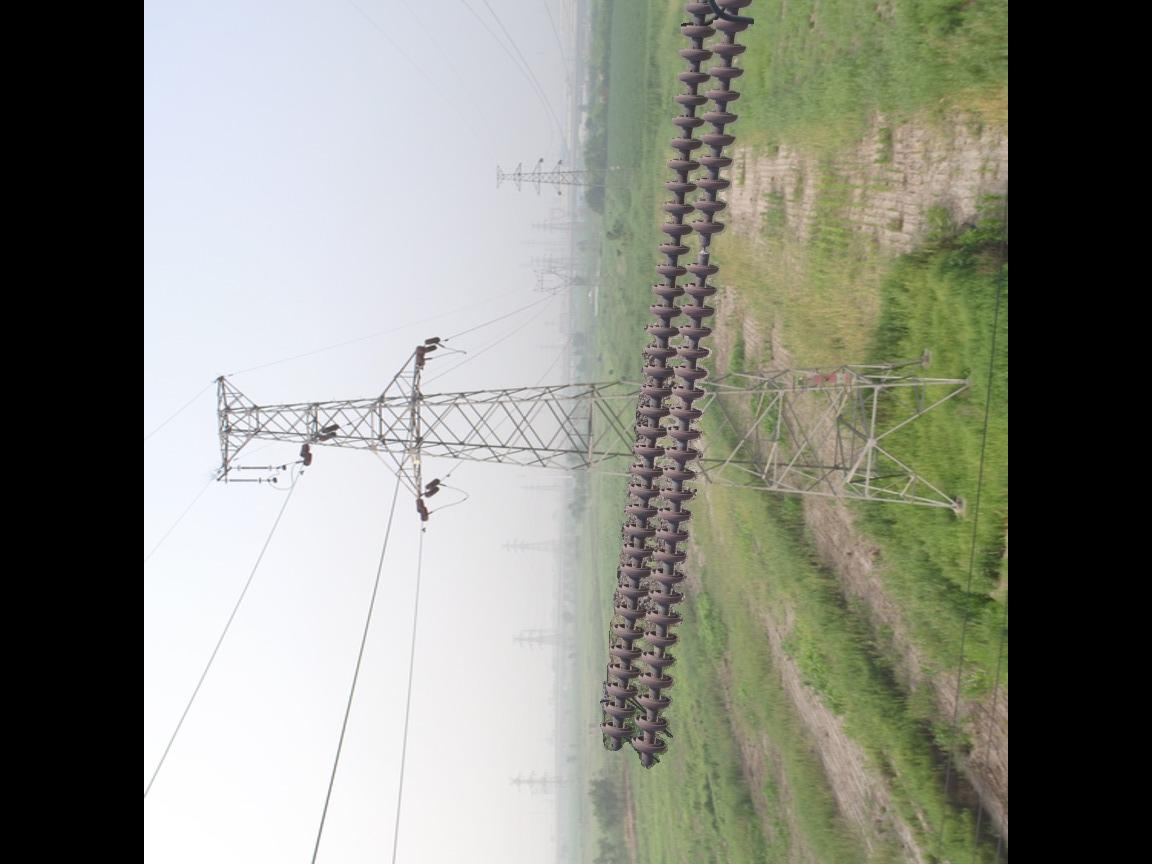insulator: (594, 1, 756, 772)
insulator_stringdrop: (683, 216, 728, 278)
